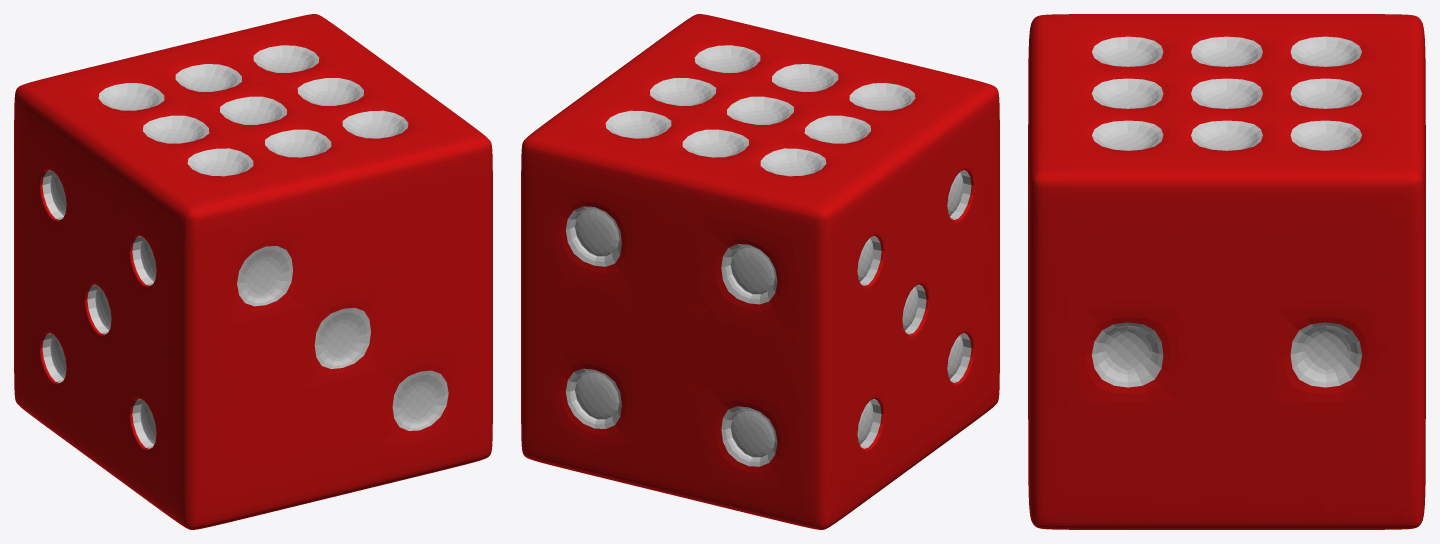
Rendered from dice.obj.
The picture shows the model from 3 angles, left to right: view 1: azimuth 30°, elevation 25°; view 2: azimuth 150°, elevation 25°; view 3: azimuth 270°, elevation 25°; orthographic projection. The views are drawn at different scales.
Visible parts, largest first — view 1: Cube; view 2: Cube; view 3: Cube.
Boxes of the visible parts, <box> form: Cube: <box>14,14,492,529</box>; Cube: <box>521,14,999,529</box>; Cube: <box>1028,14,1425,529</box>.
Bounding box in the file's own units: 2 × 2 × 2.
